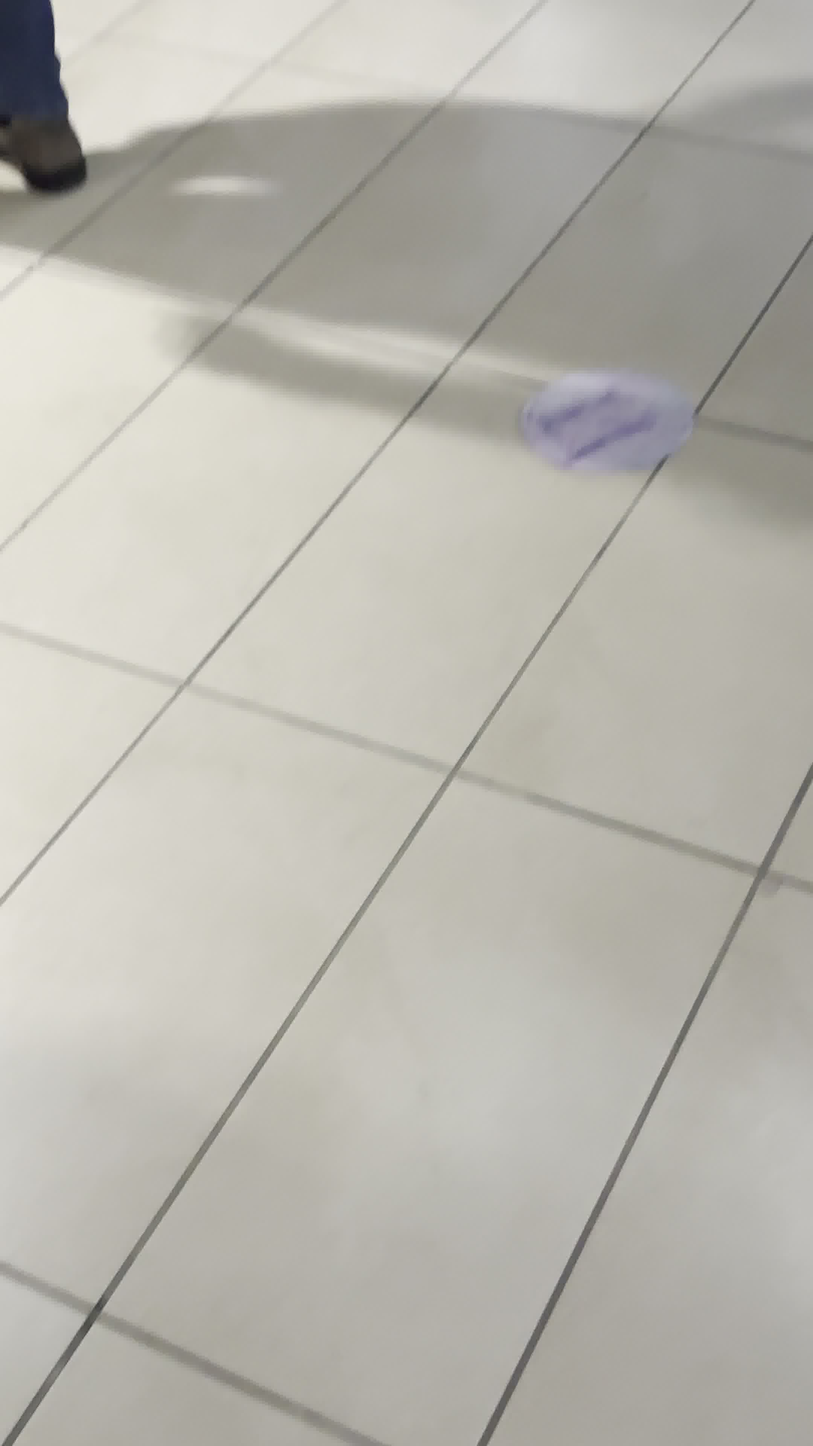Target: (516, 371, 698, 470)
